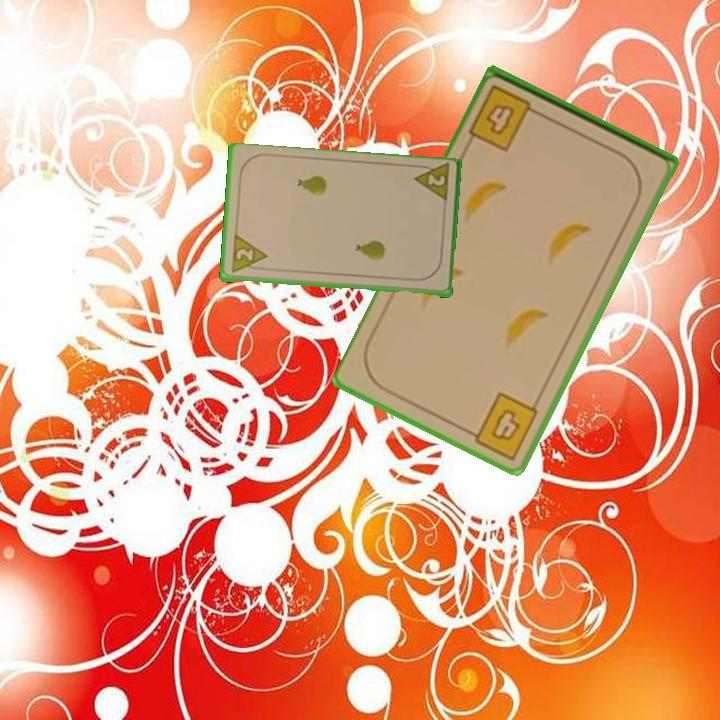2p: (410, 162, 452, 207), (227, 233, 270, 276)
4b: (463, 388, 542, 462), (466, 81, 546, 154)
